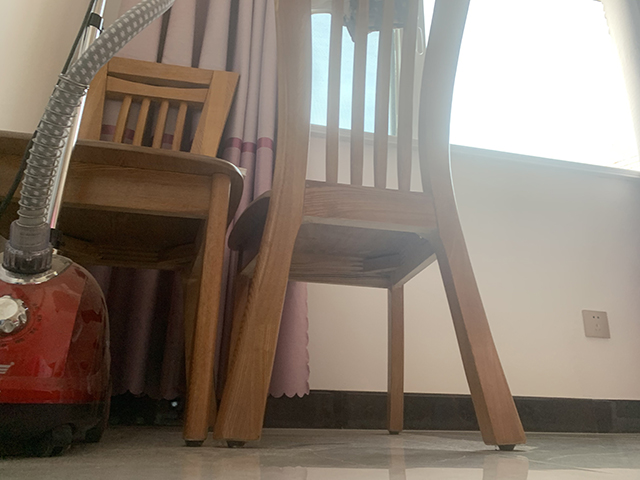curtain: (76, 1, 312, 403)
stool: (210, 1, 529, 452), (1, 54, 245, 448)
